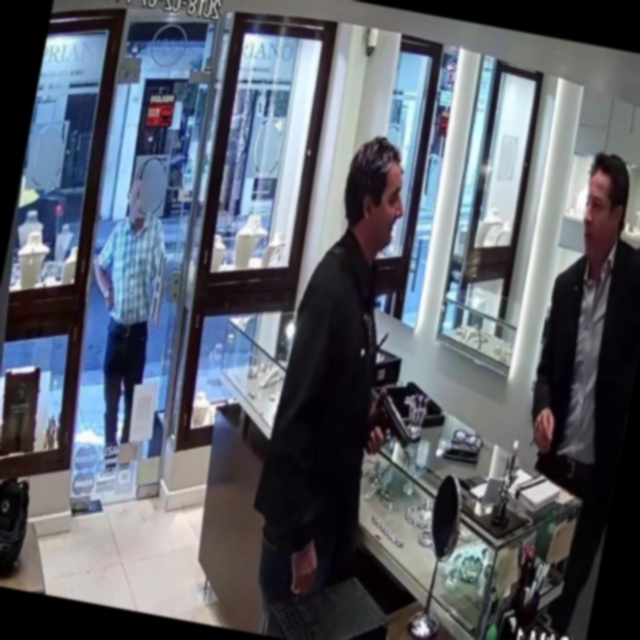gun: (355, 371, 427, 490)
